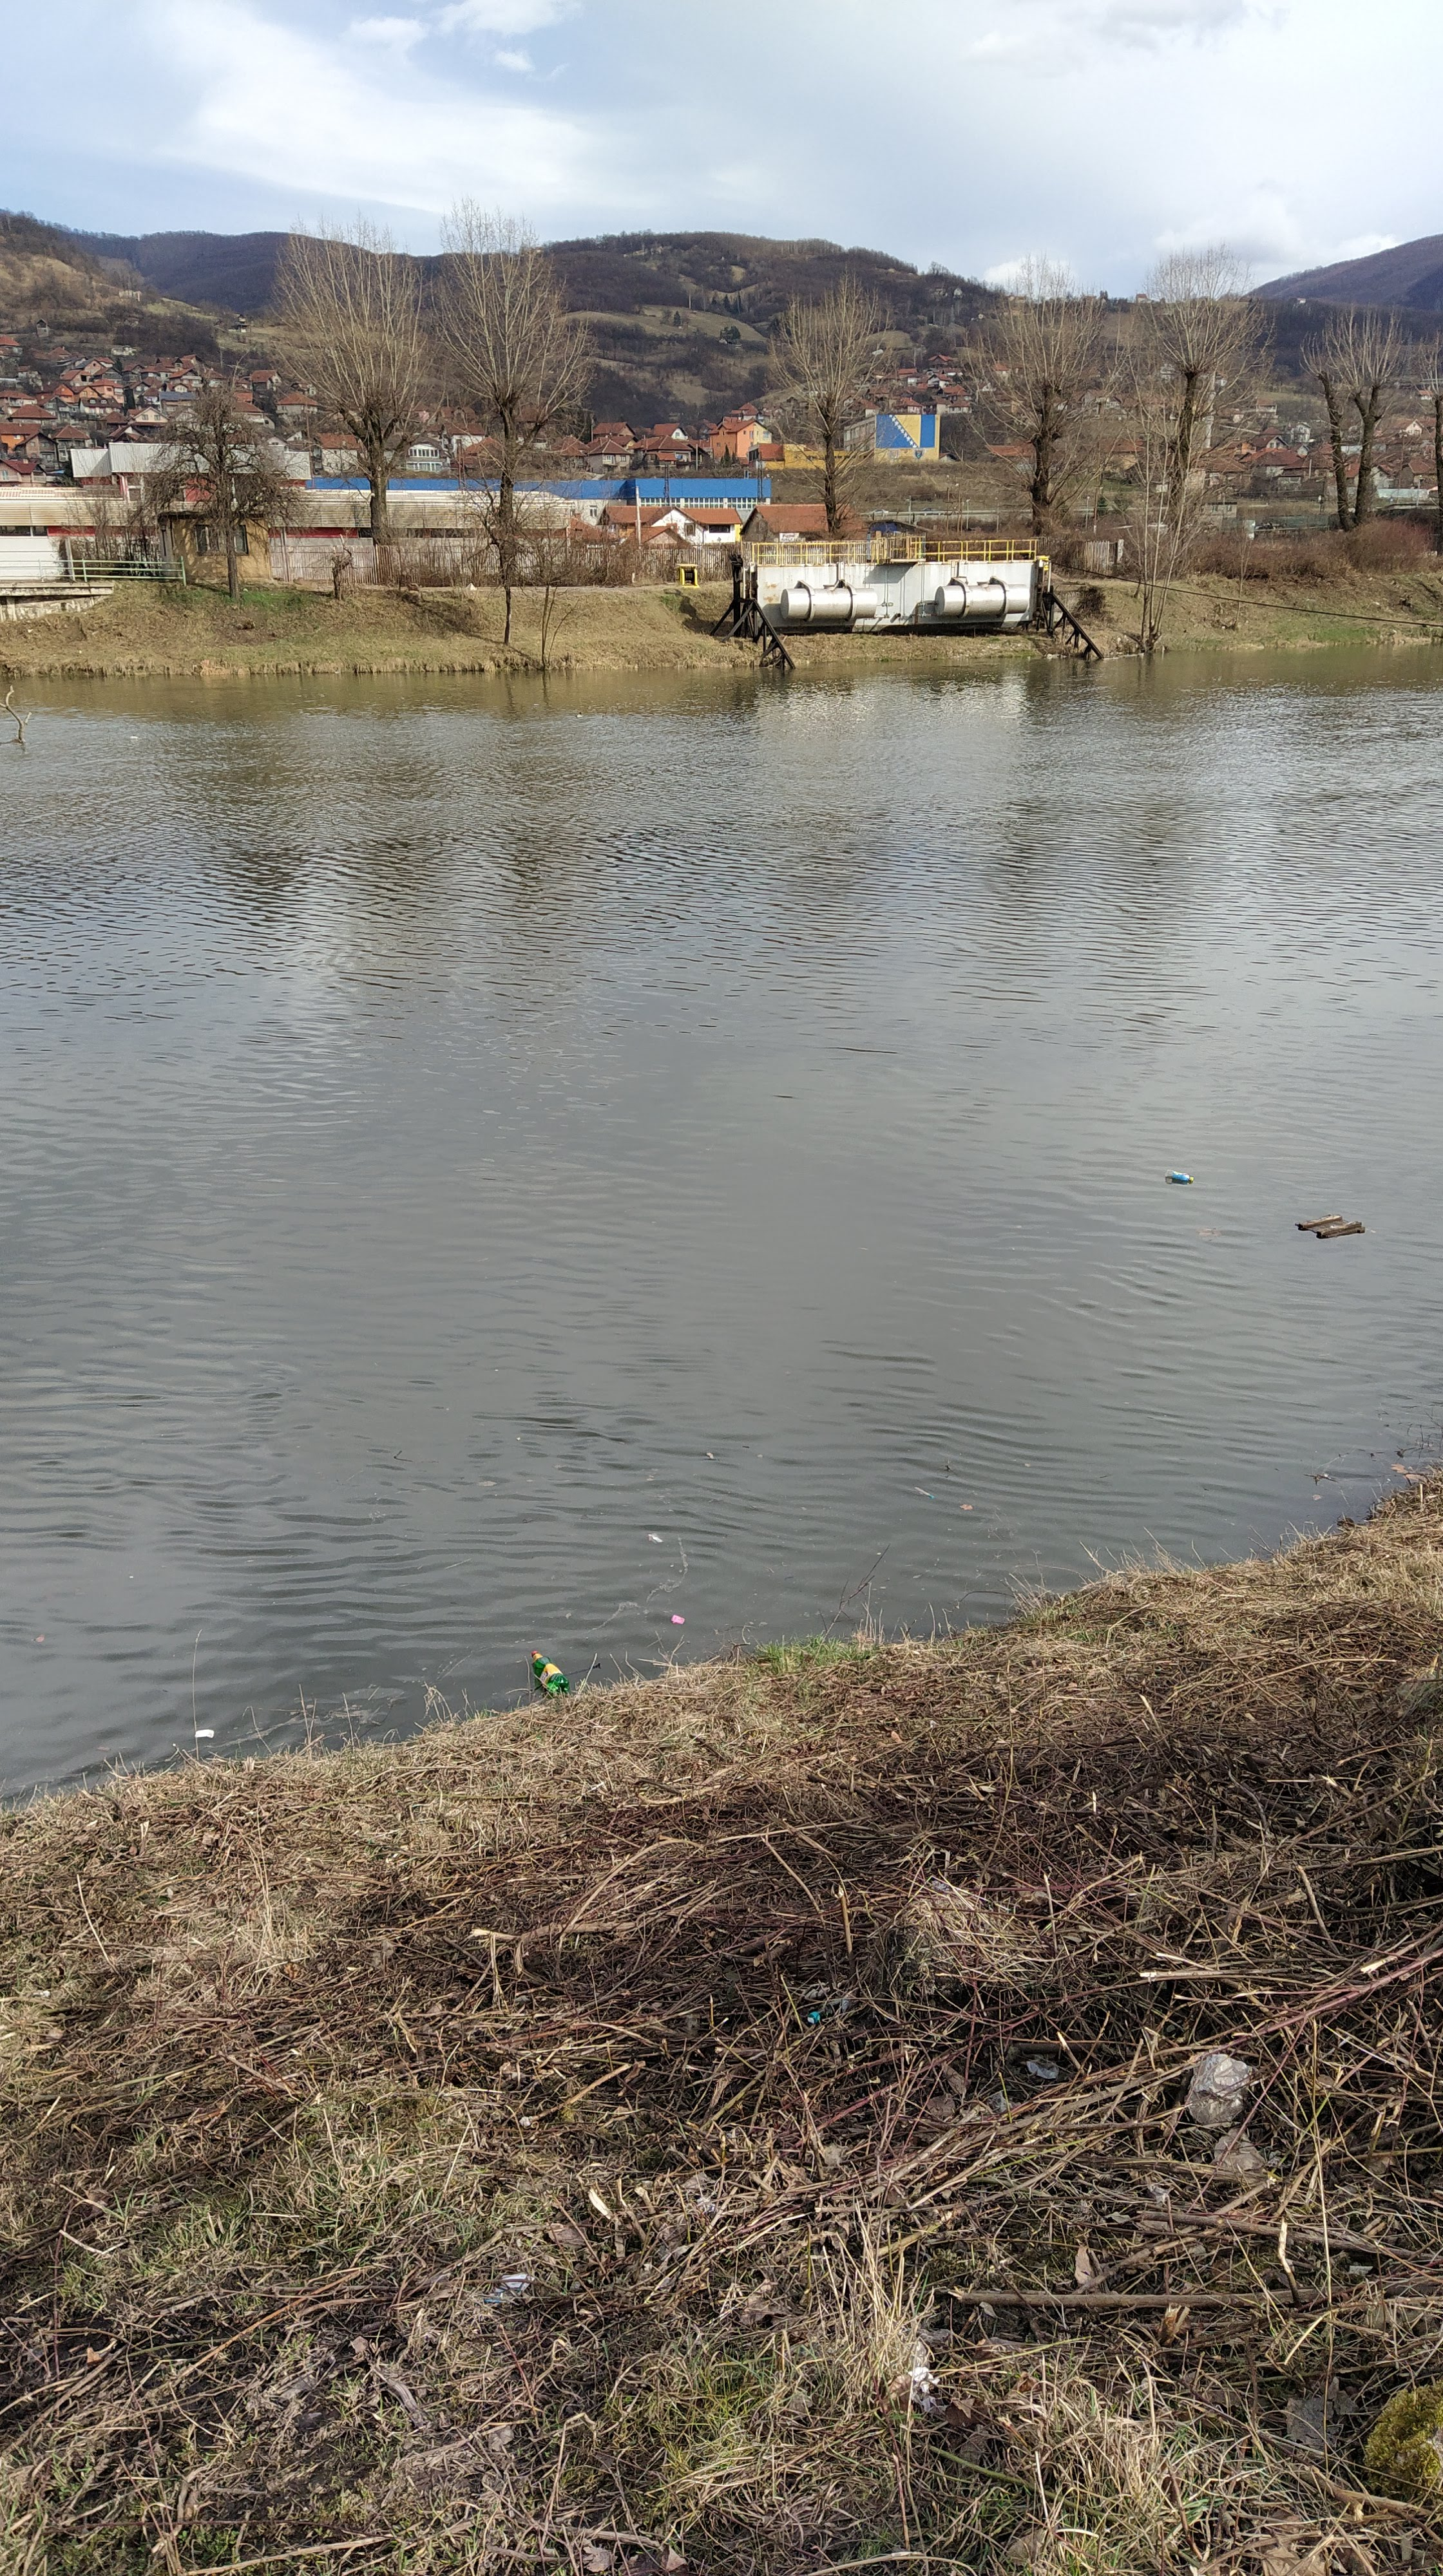Plastic Bottle: (531, 1649, 570, 1695), (1165, 1169, 1193, 1182), (129, 736, 136, 740)
